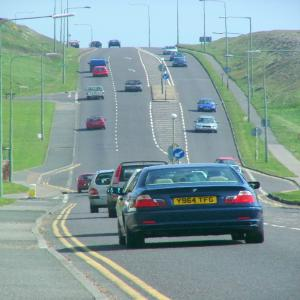Vehicle-registration-plate: (174, 197, 219, 207)
